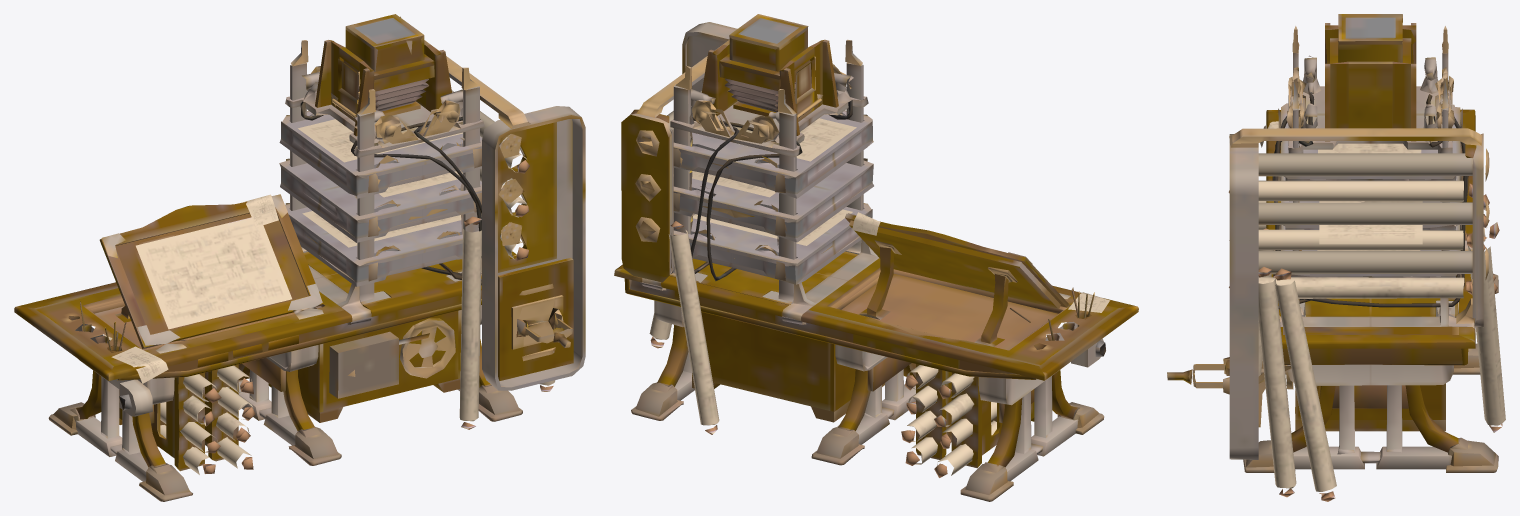
Rendered from StructureBP_TinkeringDesk_C.glb.
3 renders of one model, left to right at view 1: azimuth 30°, elevation 25°; view 2: azimuth 150°, elevation 25°; view 3: azimuth 270°, elevation 25°, orthographic. The views are drawn at different scales.
Parts seen in each view (by area): view 1: SM_TinkeringDesk; view 2: SM_TinkeringDesk; view 3: SM_TinkeringDesk.
Part boxes in pixels (x1=…): SM_TinkeringDesk: x1=14, y1=14, x2=585, y2=501; SM_TinkeringDesk: x1=614, y1=14, x2=1138, y2=501; SM_TinkeringDesk: x1=1167, y1=14, x2=1505, y2=501.
Bounding box in the file's own units: 2.88 × 2.17 × 1.65.
Materials: 2 (2 with a texture image).
